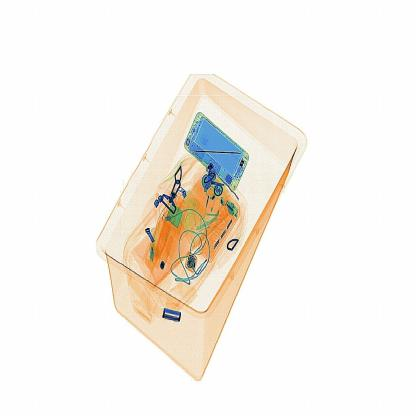pliers: (189, 130, 247, 173)
